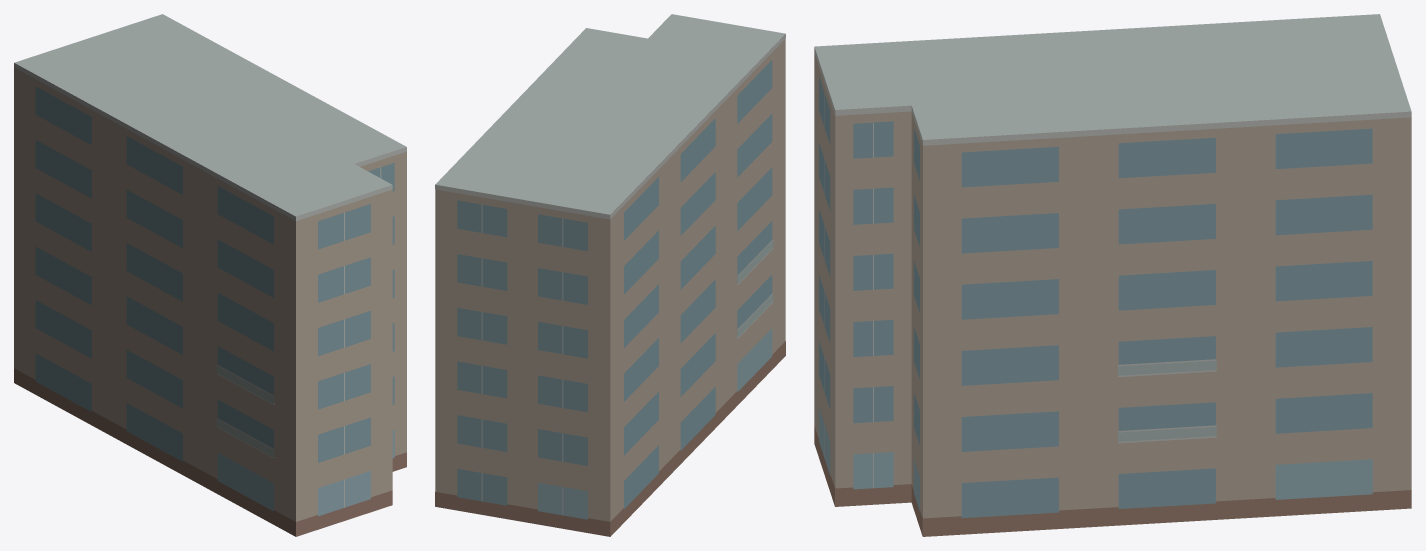
File: survey-upis-32746523.glb
3 renders of one model, left to right at view 1: azimuth 30°, elevation 25°; view 2: azimuth 150°, elevation 25°; view 3: azimuth 270°, elevation 25°, orthographic. The views are drawn at different scales.
Parts seen in each view (by area): view 1: survey-upis-32746523.tmp; view 2: survey-upis-32746523.tmp; view 3: survey-upis-32746523.tmp.
Part boxes in pixels (box(x1,y1,x2,y2)): survey-upis-32746523.tmp: box(14, 14, 406, 536); survey-upis-32746523.tmp: box(435, 14, 785, 536); survey-upis-32746523.tmp: box(814, 14, 1411, 536).
Size of the model in its own units: 11.45 by 16.8 by 22.93.
